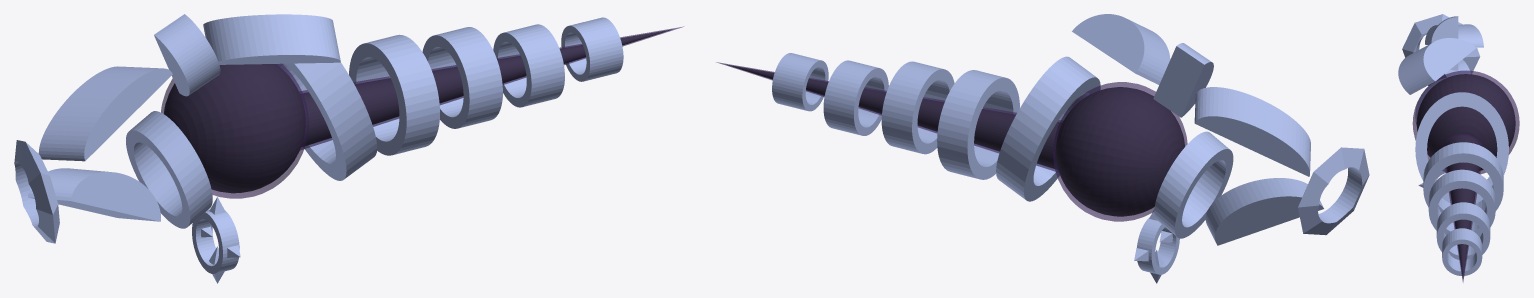
File: event-horizon.obj
3 views of the same model, side by side, from view 1: azimuth 30°, elevation 25°; view 2: azimuth 150°, elevation 25°; view 3: azimuth 270°, elevation 25° (orthographic). The views are drawn at different scales.
Parts seen in each view (by area): view 1: obj_6, obj_14, obj_11, obj_3, obj_8, obj_10, obj_1, obj_2, obj_0, obj_15, obj_13, obj_4 (+4 smaller); view 2: obj_6, obj_14, obj_1, obj_11, obj_3, obj_8, obj_13, obj_2, obj_10, obj_0, obj_12, obj_4 (+4 smaller); view 3: obj_6, obj_14, obj_1, obj_10, obj_3, obj_2, obj_4, obj_0, obj_5, obj_15, obj_12, obj_11 (+3 smaller).
Boxes of the visible parts, x1,y1,x2,y2 form: obj_6: [161, 63, 308, 198]; obj_14: [164, 64, 305, 193]; obj_11: [38, 66, 172, 161]; obj_3: [349, 34, 439, 155]; obj_8: [126, 111, 212, 228]; obj_10: [203, 14, 340, 64]; obj_1: [276, 62, 377, 180]; obj_2: [422, 27, 502, 128]; obj_0: [299, 26, 683, 149]; obj_15: [300, 29, 672, 146]; obj_13: [28, 168, 160, 221]; obj_4: [493, 24, 564, 107]; obj_6: [1053, 82, 1187, 221]; obj_14: [1055, 87, 1184, 216]; obj_1: [996, 56, 1100, 201]; obj_11: [1194, 87, 1310, 176]; obj_3: [937, 70, 1019, 179]; obj_8: [1154, 131, 1233, 238]; obj_13: [1205, 178, 1323, 245]; obj_2: [881, 61, 954, 154]; obj_10: [1072, 14, 1170, 84]; obj_0: [716, 62, 1062, 172]; obj_12: [1298, 147, 1369, 235]; obj_4: [823, 60, 888, 135]; obj_6: [1412, 70, 1519, 174]; obj_14: [1416, 74, 1515, 170]; obj_1: [1415, 92, 1508, 203]; obj_10: [1398, 38, 1476, 94]; obj_3: [1423, 142, 1503, 212]; obj_2: [1428, 169, 1495, 236]; obj_4: [1436, 202, 1490, 259]; obj_0: [1443, 134, 1481, 282]; obj_5: [1442, 228, 1482, 275]; obj_15: [1445, 136, 1479, 278]; obj_12: [1402, 14, 1480, 85]; obj_11: [1425, 24, 1483, 47].
Bounding box in the file's own units: 205 × 78.02 × 45.39.
